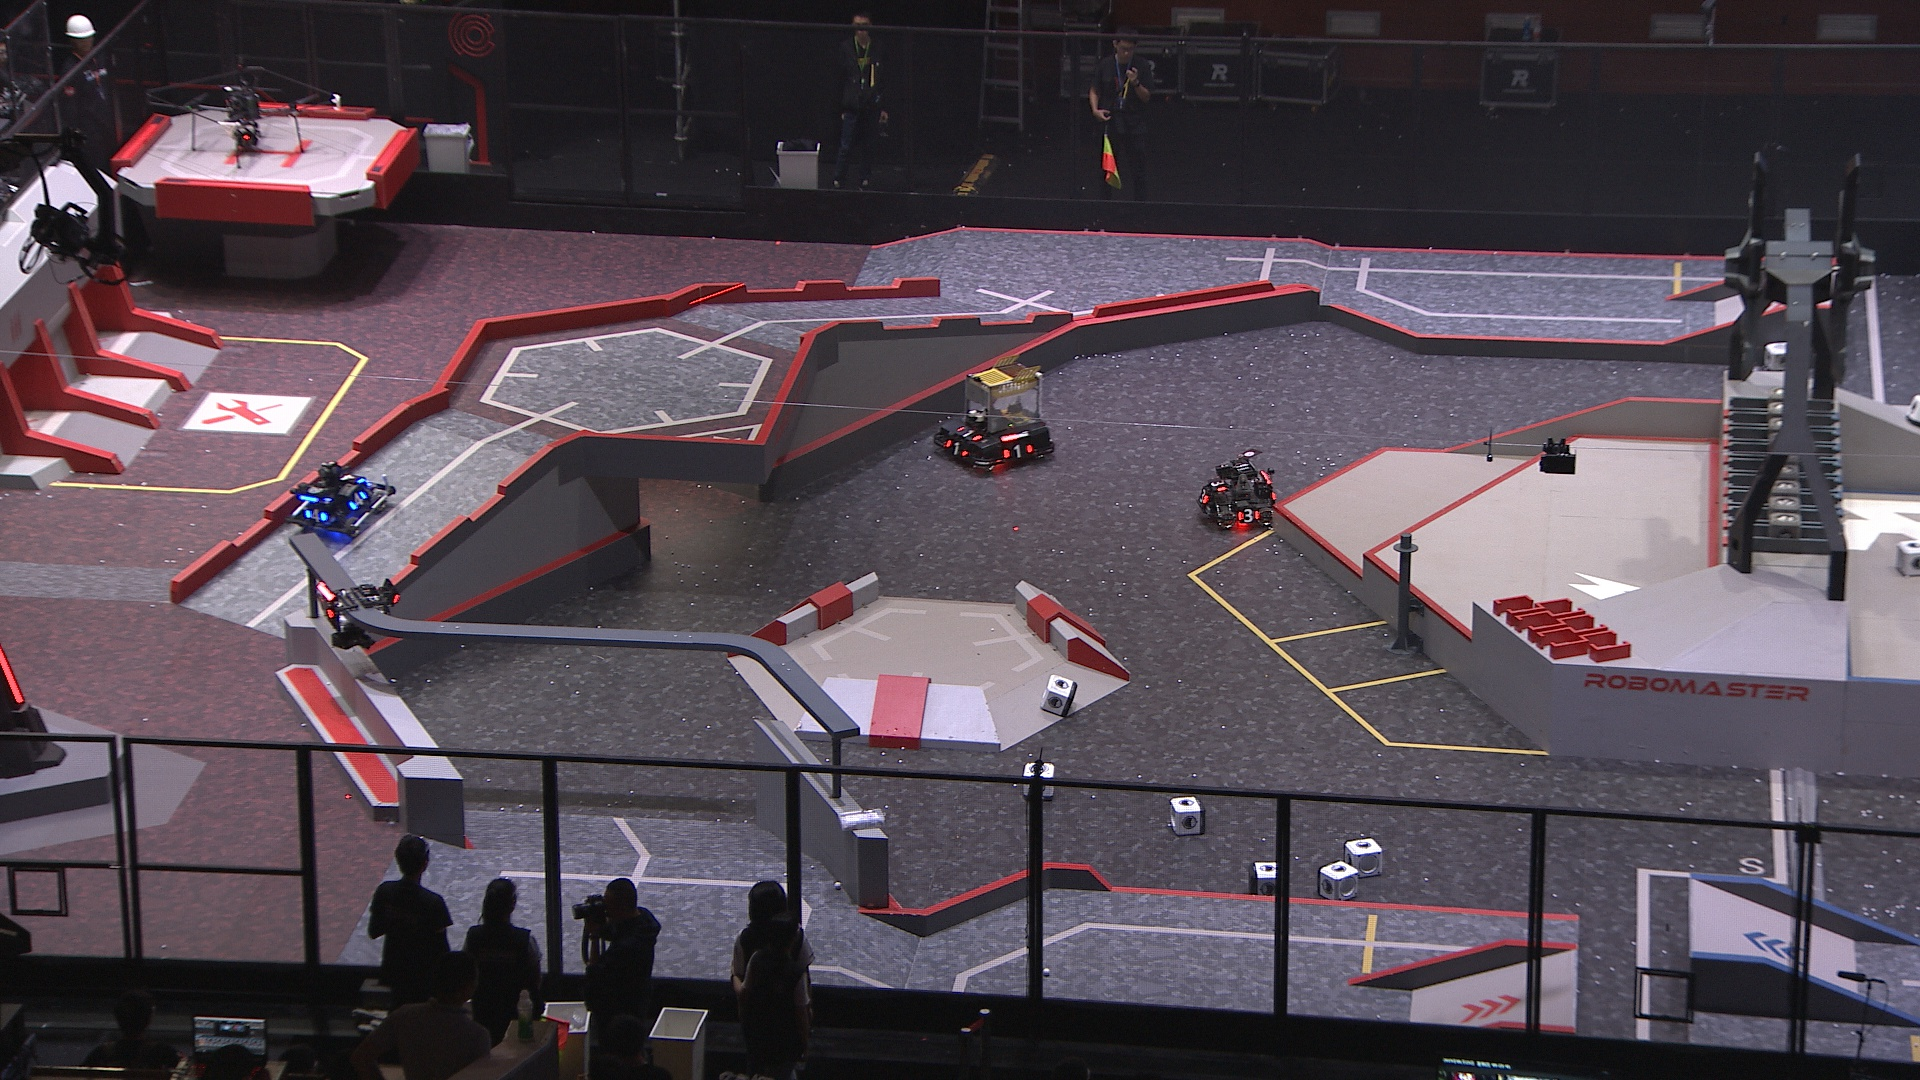armor: (311, 585, 335, 622), (942, 436, 969, 462), (998, 442, 1034, 460), (343, 489, 368, 513), (339, 469, 367, 491), (955, 422, 982, 442), (302, 506, 330, 526), (1207, 473, 1228, 495), (1237, 506, 1261, 524), (1197, 485, 1209, 508)
car: (935, 353, 1058, 477), (285, 462, 396, 542), (1188, 444, 1280, 537)
watcher: (309, 574, 400, 647)
